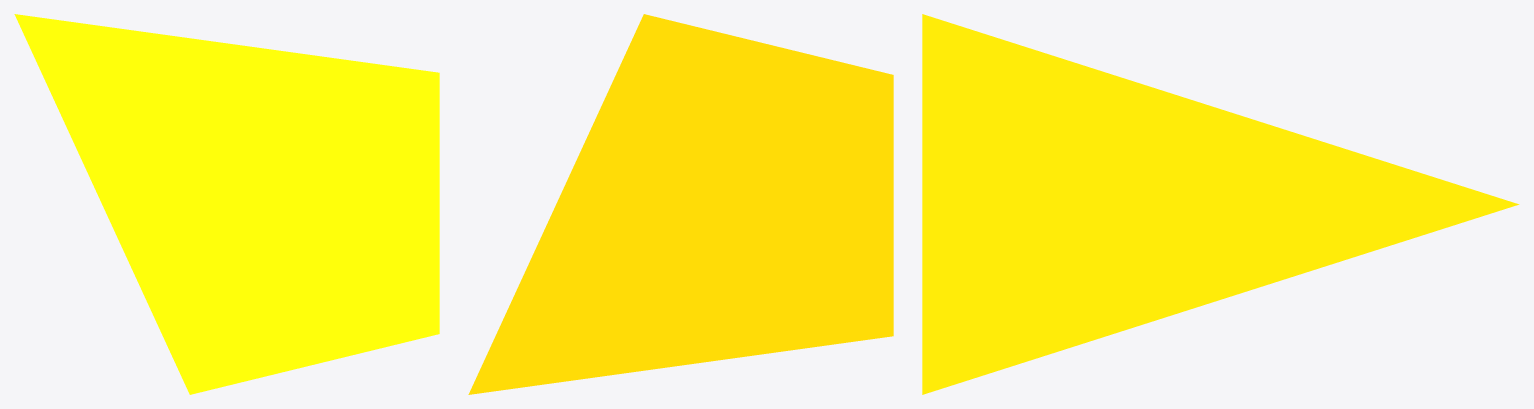
The model's file is arrow_navigation.glb.
The picture shows the model from 3 angles, left to right: view 1: azimuth 30°, elevation 25°; view 2: azimuth 150°, elevation 25°; view 3: azimuth 270°, elevation 25°; orthographic projection.
Visible parts, largest first — view 1: ArrowNode; view 2: ArrowNode; view 3: ArrowNode.
Part boxes in pixels (x1=…): ArrowNode: x1=14, y1=14, x2=439, y2=394; ArrowNode: x1=468, y1=14, x2=893, y2=394; ArrowNode: x1=922, y1=14, x2=1519, y2=394.
Bounding box in the file's own units: 0.36 × 0.36 × 0.75.
